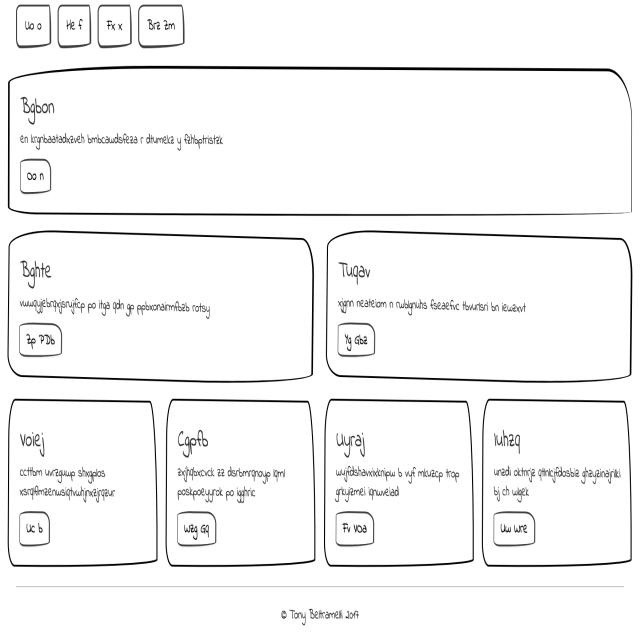Button: (16, 320, 72, 355), (495, 506, 540, 546), (342, 514, 375, 552), (333, 330, 377, 357), (14, 166, 55, 191), (176, 516, 215, 542), (19, 515, 52, 544)
Card: (3, 76, 628, 219), (326, 232, 636, 382), (13, 232, 313, 382), (168, 393, 318, 574), (487, 396, 635, 573), (12, 399, 160, 568), (331, 402, 475, 563)
Footer: (5, 583, 640, 640)
Heading 6: (337, 252, 389, 290), (12, 249, 58, 285), (488, 419, 531, 455), (173, 418, 214, 453), (333, 424, 373, 456), (17, 421, 57, 451), (13, 100, 68, 116)
Navigation Bar: (18, 6, 185, 49)
Paragraph: (332, 290, 530, 330), (495, 459, 630, 506), (15, 291, 236, 319), (16, 130, 245, 152), (337, 464, 466, 503), (174, 460, 290, 500), (22, 461, 124, 503)
